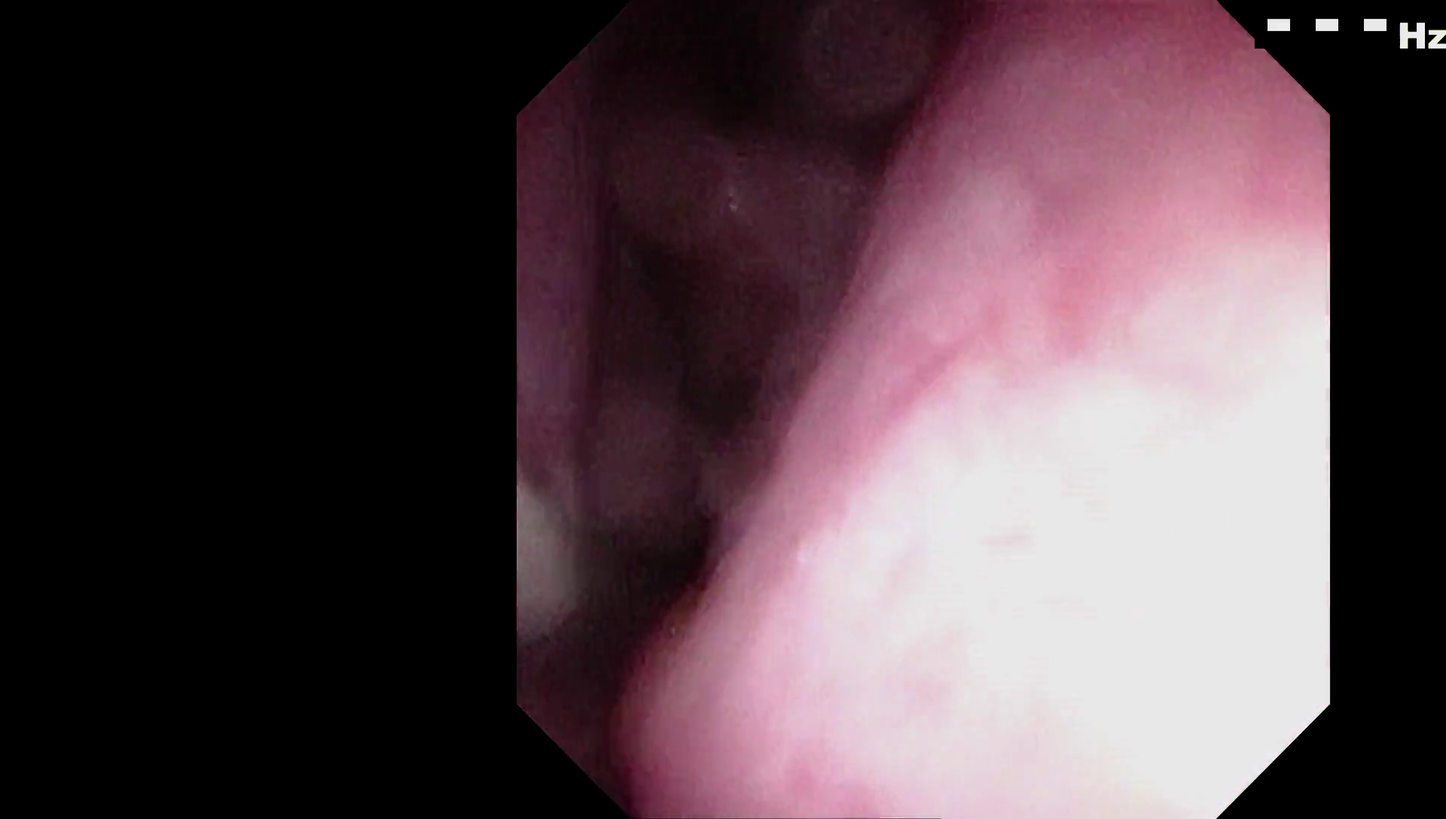close_wall: (739, 285, 1269, 747)
next: (617, 8, 852, 169), (578, 504, 728, 665), (578, 215, 725, 372)
